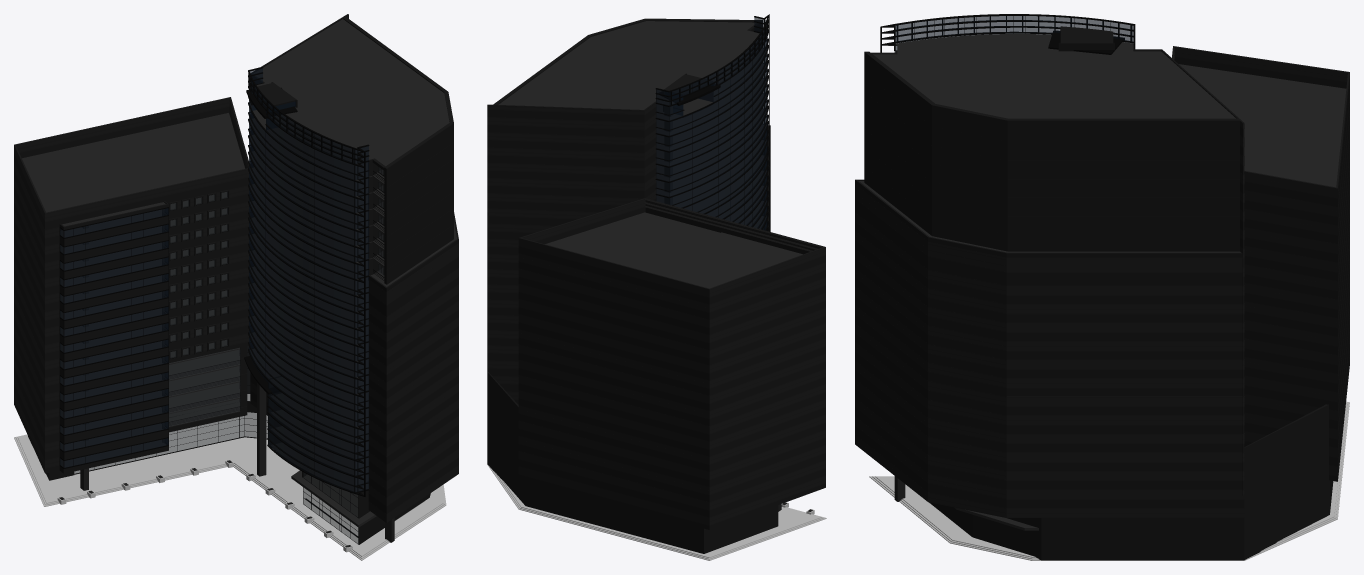
The model's file is SmallBuilding.obj.
3 views of the same model, side by side, from view 1: azimuth 30°, elevation 25°; view 2: azimuth 150°, elevation 25°; view 3: azimuth 270°, elevation 25° (orthographic). The views are drawn at different scales.
Visible parts, largest first — view 1: Line72, Rectangl29, Line206, Line15, Line127, Line99, Line202, Plane17, Line05, Line201, Rectangle0.Rectangle1.Rectangle2.Rectangle3.Rectangle4.Rectangl_; view 2: Rectangl29, Line127, Line72, Line99, Line206, Line15, Line202, Line05, Line201, Line204, Rectangle0.Rectangle1.Rectangle2.Rectangle3.Rectangle4.Rectangl_; view 3: Rectangl29, Line127, Line99, Line72, Line206, Line15, Line202, Rectangl16, Line05, Line201.
Part boxes in pixels (x1,y1,x2,y2): Line72: (22, 19, 457, 527); Rectangl29: (14, 14, 458, 544); Line206: (60, 68, 368, 491); Line15: (59, 66, 384, 543); Line127: (14, 16, 458, 521); Line99: (14, 15, 458, 522); Line202: (17, 394, 443, 556); Plane17: (74, 167, 384, 543); Line05: (14, 437, 446, 560); Line201: (15, 436, 444, 558); Rectangle0.Rectangle1.Rectangle2.Rectangle3.Rectangle4.Rectangl_: (257, 204, 266, 476); Rectangl29: (487, 18, 825, 553); Line127: (487, 104, 825, 524); Line72: (498, 21, 802, 288); Line99: (487, 103, 825, 525); Line206: (656, 17, 767, 230); Line15: (655, 14, 769, 231); Line202: (501, 479, 821, 557); Line05: (487, 464, 826, 560); Line201: (494, 471, 824, 559); Line204: (656, 19, 765, 225); Rectangle0.Rectangle1.Rectangle2.Rectangle3.Rectangle4.Rectangl_: (664, 106, 672, 204); Rectangl29: (855, 26, 1349, 560); Line127: (855, 48, 1349, 516); Line99: (855, 46, 1349, 517); Line72: (859, 34, 1346, 530); Line206: (895, 16, 1133, 51); Line15: (880, 14, 1135, 52); Line202: (875, 402, 1346, 557); Rectangl16: (864, 73, 1239, 234); Line05: (869, 402, 1349, 560); Line201: (872, 401, 1347, 559).
Bounding box in the file's own units: 15.88 × 18.24 × 17.96.
